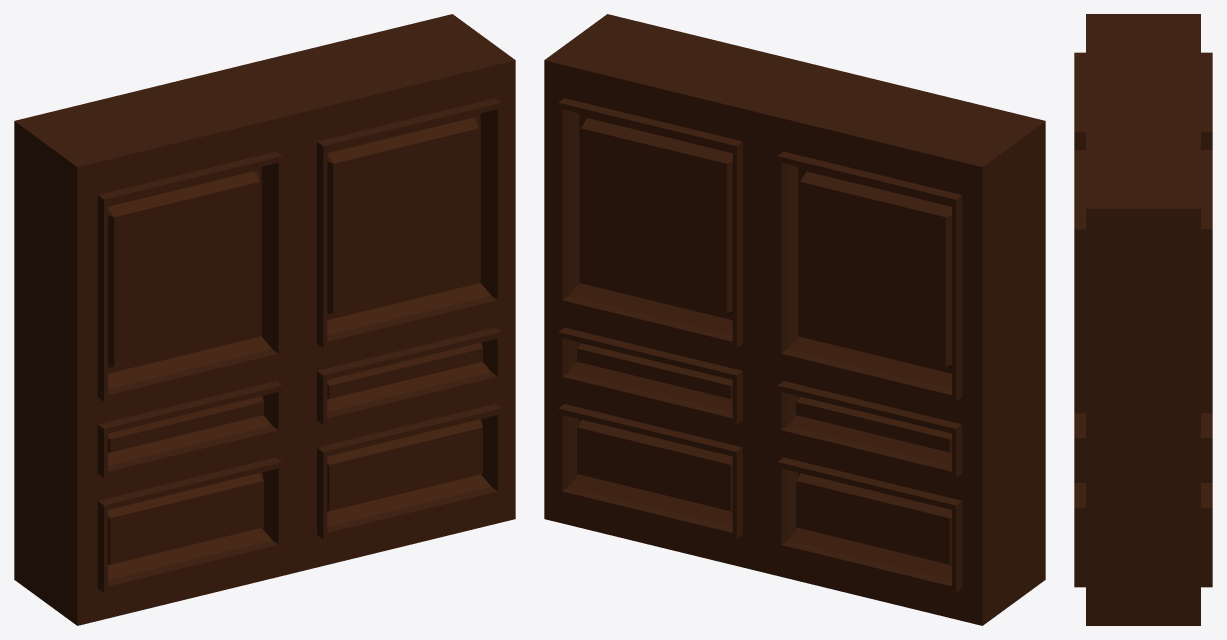
File: OpenDoor.glb
The picture shows the model from 3 angles, left to right: view 1: azimuth 30°, elevation 25°; view 2: azimuth 150°, elevation 25°; view 3: azimuth 270°, elevation 25°; orthographic projection. The views are drawn at different scales.
Parts seen in each view (by area): view 1: Right Door, Left Door; view 2: Right Door, Left Door; view 3: Left Door, Right Door.
Part boxes in pixels (x1,y1,x2,y2): Right Door: (14, 67, 296, 625); Left Door: (233, 14, 515, 572); Right Door: (763, 67, 1045, 625); Left Door: (544, 14, 826, 572); Left Door: (1074, 111, 1212, 625); Right Door: (1074, 14, 1212, 149).
Size of the model in its own units: 2 by 2 by 0.6.
